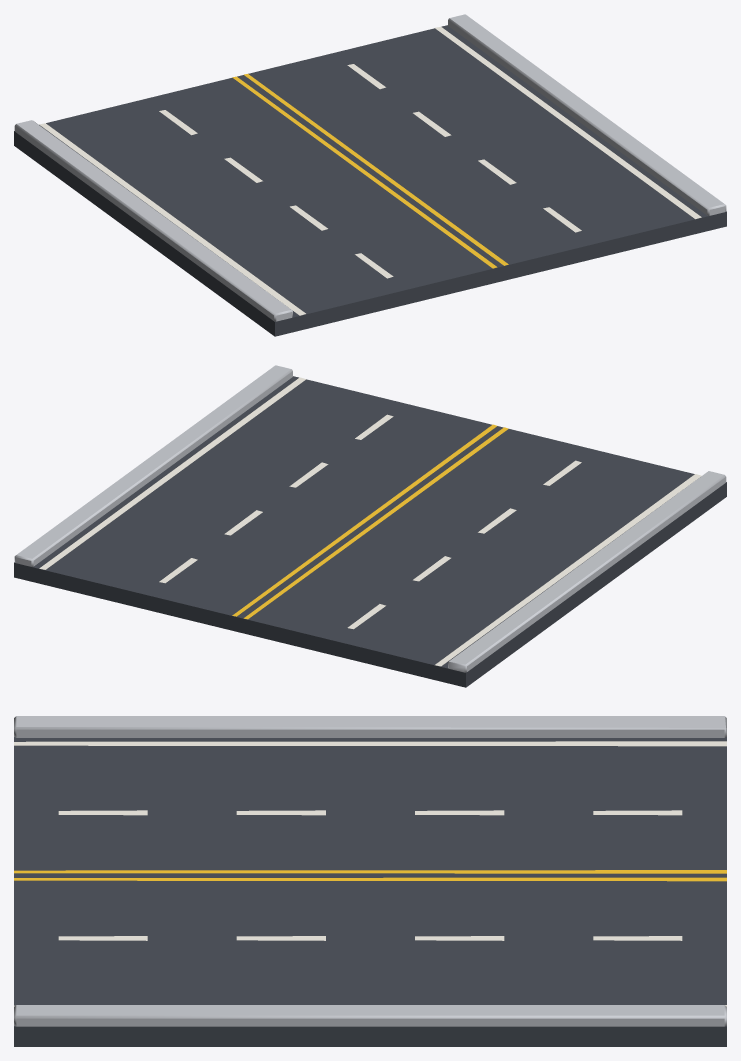
Rendered from ct_road_lod.glb.
3 views of the same model, one above another, from view 1: azimuth 30°, elevation 25°; view 2: azimuth 150°, elevation 25°; view 3: azimuth 270°, elevation 25° (orthographic). The views are drawn at different scales.
Visible parts, largest first — view 1: ct_road_lod; view 2: ct_road_lod; view 3: ct_road_lod.
Boxes of the visible parts, x1,y1,x2,y2 form: ct_road_lod: (14,14,726,336); ct_road_lod: (14,365,726,687); ct_road_lod: (14,716,726,1046).
Size of the model in its own units: 9.6 by 0.45 by 9.6.
